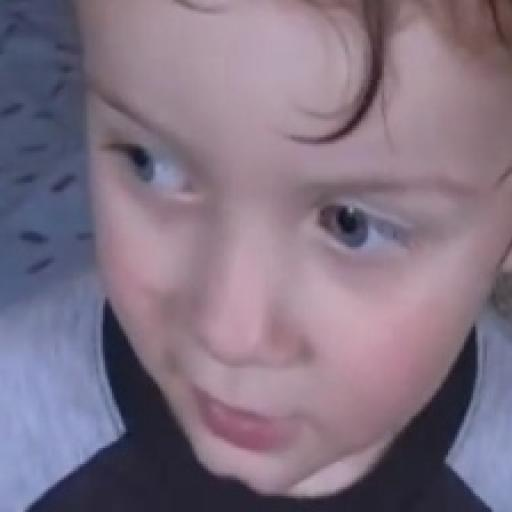Autism: (146, 11, 512, 510)
